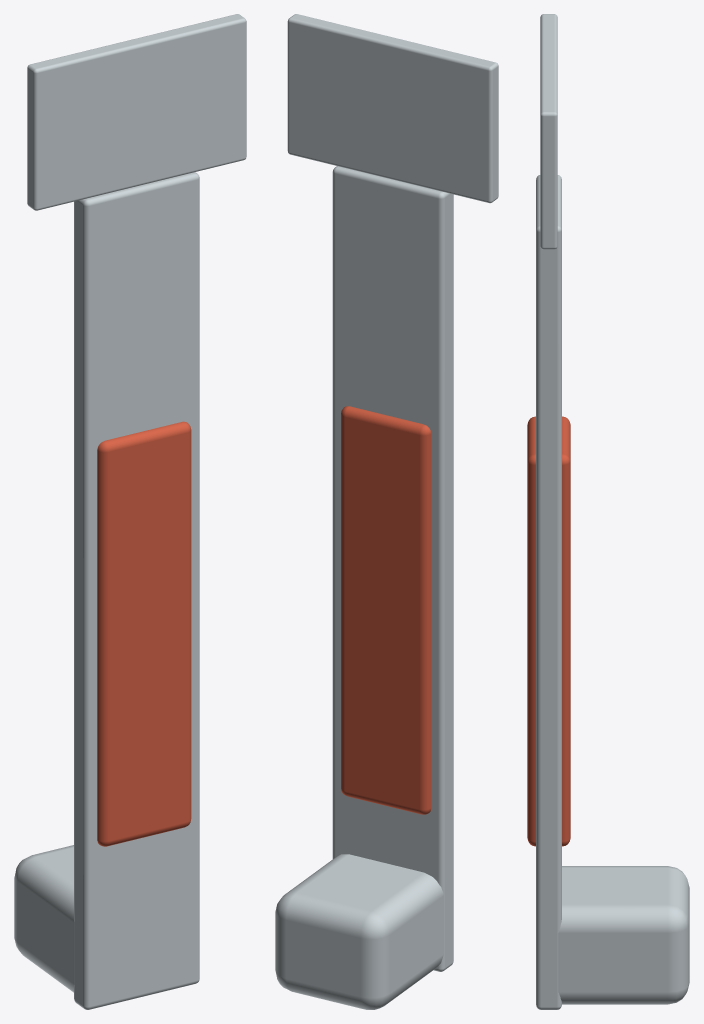
File: beekeeping-and-honey-farm-hive-tool-b200b65f__30715.glb
3 renders of one model, left to right at view 1: azimuth 30°, elevation 25°; view 2: azimuth 150°, elevation 25°; view 3: azimuth 270°, elevation 25°, orthographic. The views are drawn at different scales.
Visible parts, largest first — view 1: hive-tool; view 2: hive-tool; view 3: hive-tool.
Part boxes in pixels (bbox=[...]): hive-tool: bbox=[14, 14, 246, 1009]; hive-tool: bbox=[275, 14, 498, 1009]; hive-tool: bbox=[527, 14, 689, 1009].
Size of the model in its own units: 0.055 by 0.235 by 0.0375.
